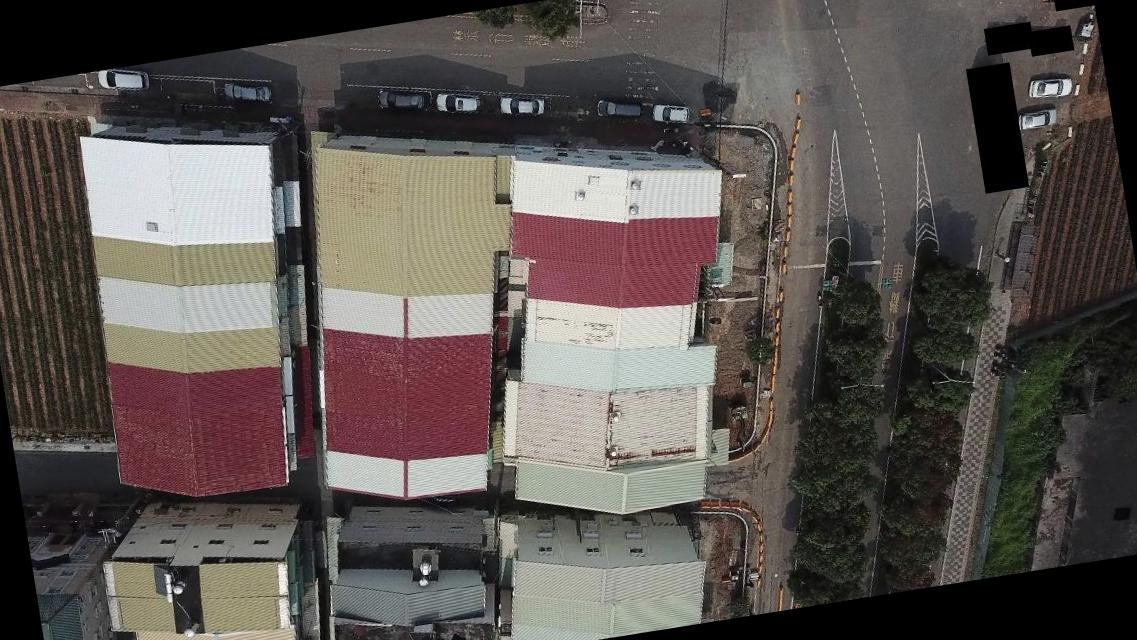vehicle: (97, 62, 153, 100), (222, 74, 274, 110), (376, 82, 427, 118), (495, 88, 548, 122), (434, 85, 485, 120), (594, 90, 643, 124), (1026, 72, 1075, 102), (1014, 103, 1060, 131), (650, 98, 691, 126)
